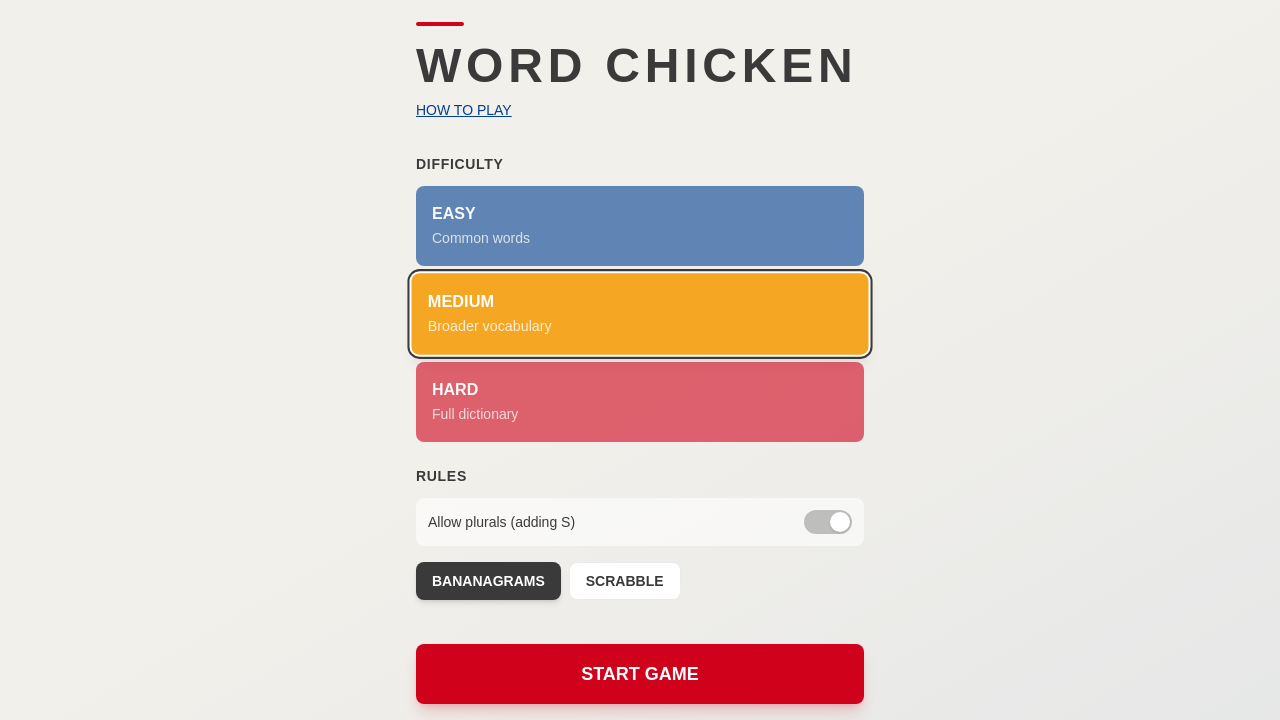
Scenario: App › clicking "Start Game" switches to GameScreen
(page scrolled)
Click the button "Start Game": click(640, 674) top-left (416, 644), bottom-right (864, 704)
(page scrolled)
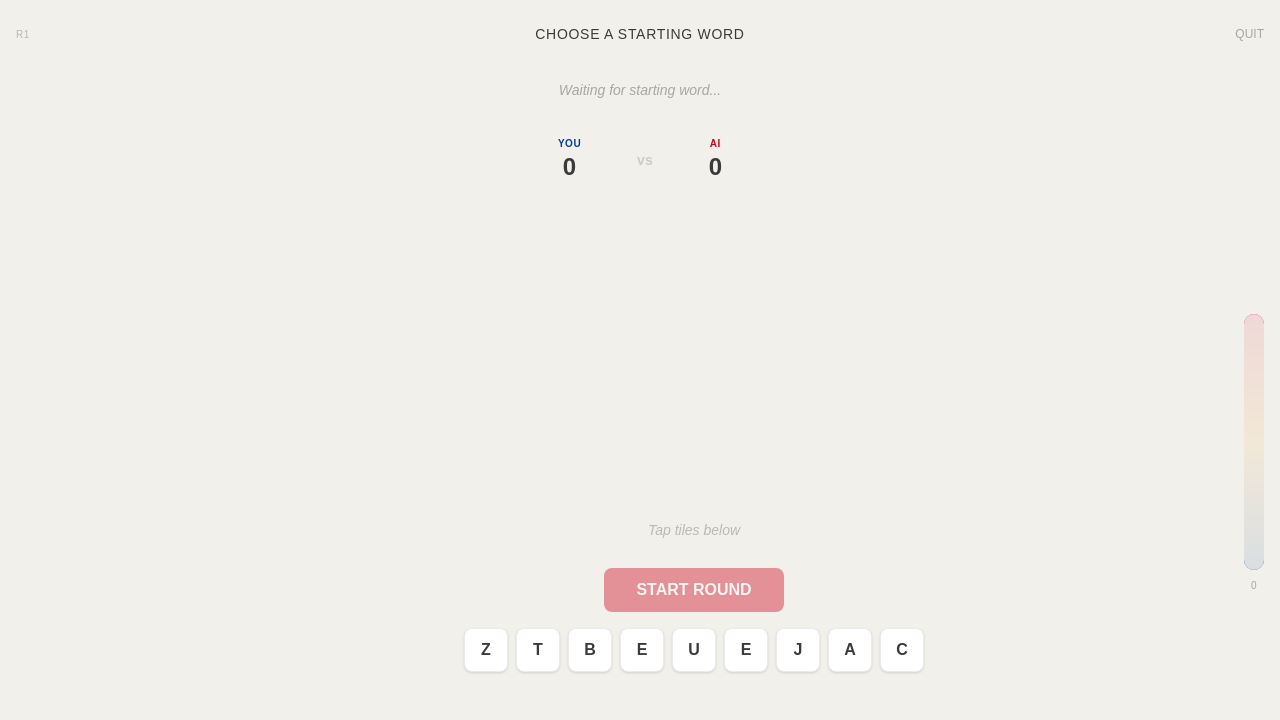
Expected: the text "Choose a starting word" is shown, top-left (535, 26), bottom-right (745, 42)
Expected: the button "Quit" is shown, top-left (1235, 26), bottom-right (1264, 42)
